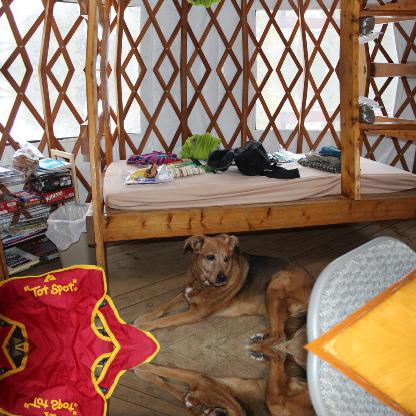Dog: (131, 231, 315, 345), (131, 347, 316, 415)
